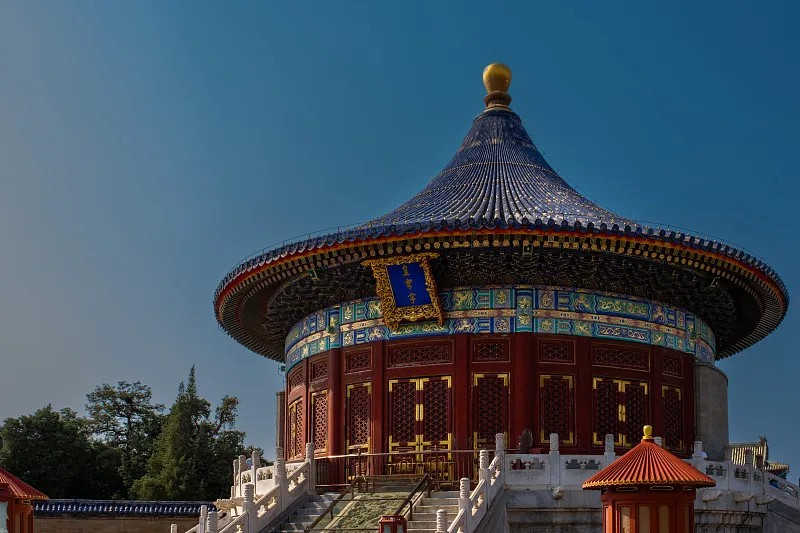Heaven: (212, 63, 787, 492)
